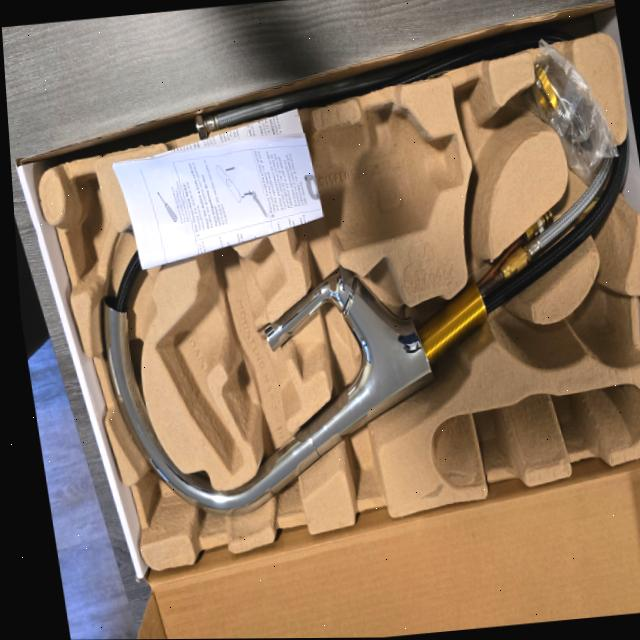1o: (101, 146, 629, 514)
2m: (155, 238, 287, 475)
3m: (271, 105, 461, 256)
4m: (430, 384, 640, 488)
5m: (572, 287, 625, 357)
6: (529, 41, 619, 183)
7m: (453, 73, 516, 205)
8: (111, 108, 322, 272)
